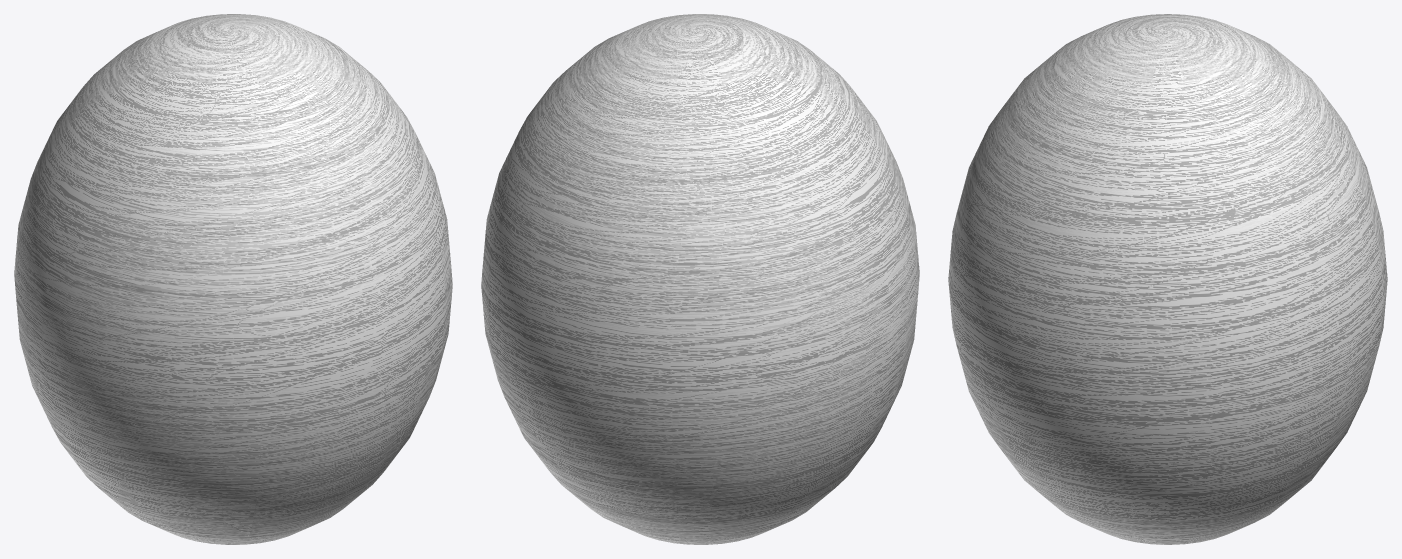
The model's file is cocoon.obj.
3 renders of one model, left to right at view 1: azimuth 30°, elevation 25°; view 2: azimuth 150°, elevation 25°; view 3: azimuth 270°, elevation 25°, orthographic.
Visible parts, largest first — view 1: 球; view 2: 球; view 3: 球.
Part boxes in pixels (<box>): 球: <box>14,14,452,544</box>; 球: <box>481,14,919,544</box>; 球: <box>948,14,1387,544</box>.
Size of the model in its own units: 1.6 by 2 by 1.6.
